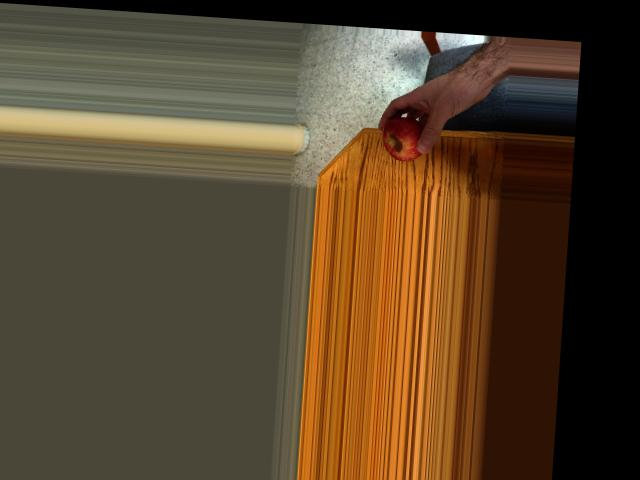apple: (379, 114, 429, 161)
